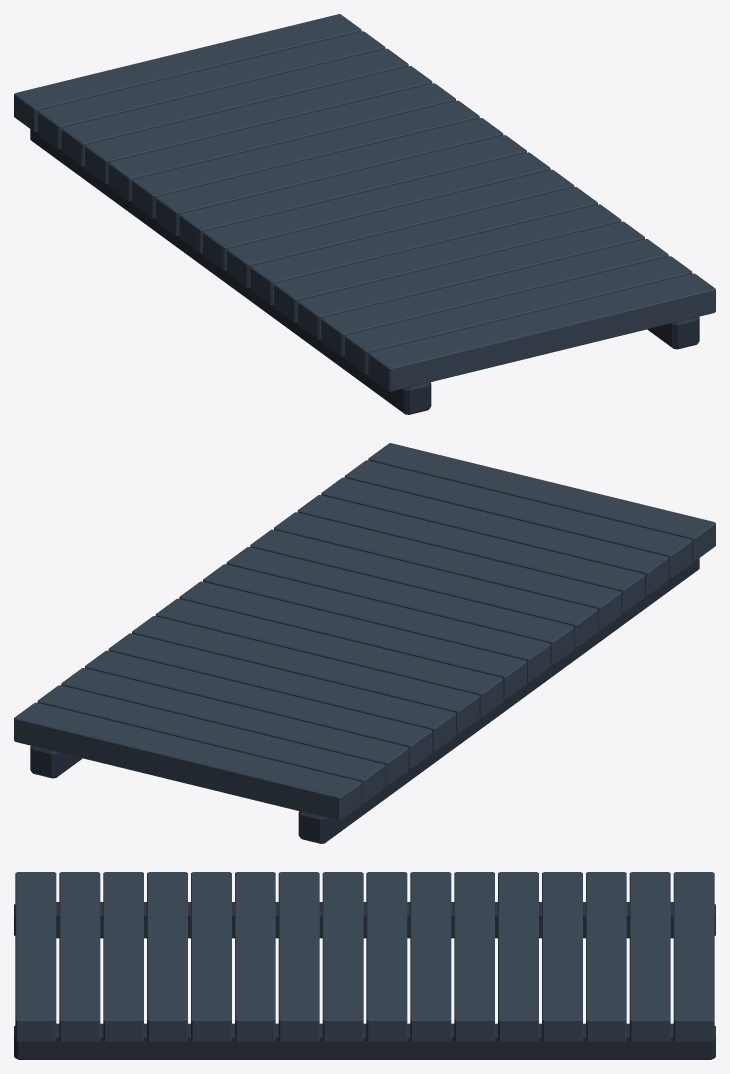
The model's file is bridge.glb.
3 views of the same model, one above another, from view 1: azimuth 30°, elevation 25°; view 2: azimuth 150°, elevation 25°; view 3: azimuth 270°, elevation 25° (orthographic). The views are drawn at different scales.
Parts seen in each view (by area): view 1: bridge__body; view 2: bridge__body; view 3: bridge__body.
Boxes of the visible parts, box(x1,y1,x2,y2) form: bridge__body: box(14, 14, 715, 414); bridge__body: box(14, 443, 715, 843); bridge__body: box(14, 872, 715, 1059).
Bounding box in the file's own units: 2 × 0.3 × 4.
